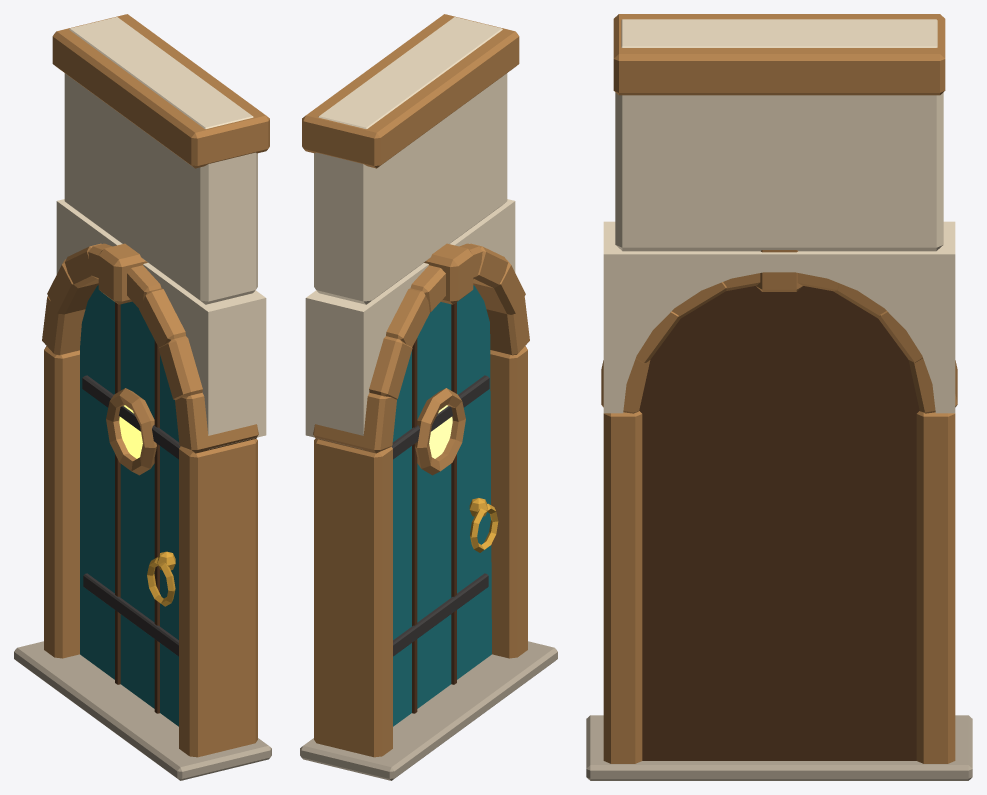
Rendered from mod_wall_curved_r2.62_n18_door.glb.
3 renders of one model, left to right at view 1: azimuth 30°, elevation 25°; view 2: azimuth 150°, elevation 25°; view 3: azimuth 270°, elevation 25°, orthographic. The views are drawn at different scales.
Parts seen in each view (by area): view 1: mod_wall_curved_r2.62_n18_door, part_door_leaf; view 2: mod_wall_curved_r2.62_n18_door, part_door_leaf; view 3: mod_wall_curved_r2.62_n18_door.
Boxes of the visible parts, x1=… form: mod_wall_curved_r2.62_n18_door: x1=14, y1=14, x2=271, y2=780; part_door_leaf: x1=80, y1=285, x2=180, y2=726; mod_wall_curved_r2.62_n18_door: x1=300, y1=14, x2=557, y2=780; part_door_leaf: x1=391, y1=285, x2=498, y2=726; mod_wall_curved_r2.62_n18_door: x1=586, y1=14, x2=972, y2=780.
Bounding box in the file's own units: 0.4 × 2.3 × 1.1.
